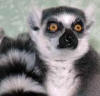cat: (0, 2, 99, 95)
